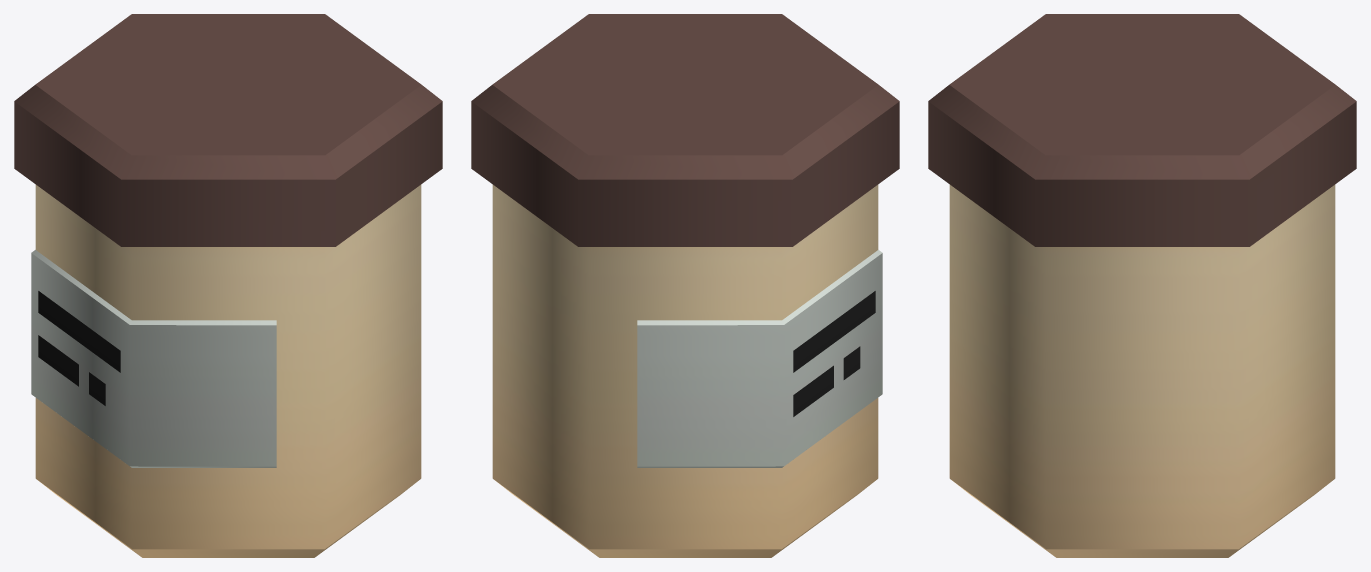
The model's file is Jar_1_A.fbx.
3 renders of one model, left to right at view 1: azimuth 30°, elevation 25°; view 2: azimuth 150°, elevation 25°; view 3: azimuth 270°, elevation 25°, orthographic.
Visible parts, largest first — view 1: Jar_1_A; view 2: Jar_1_A; view 3: Jar_1_A.
Boxes of the visible parts, x1,y1,x2,y2 form: Jar_1_A: (14,14,442,557); Jar_1_A: (471,14,899,557); Jar_1_A: (928,14,1356,557).
Size of the model in its own units: 17.99 by 21.94 by 20.77.
